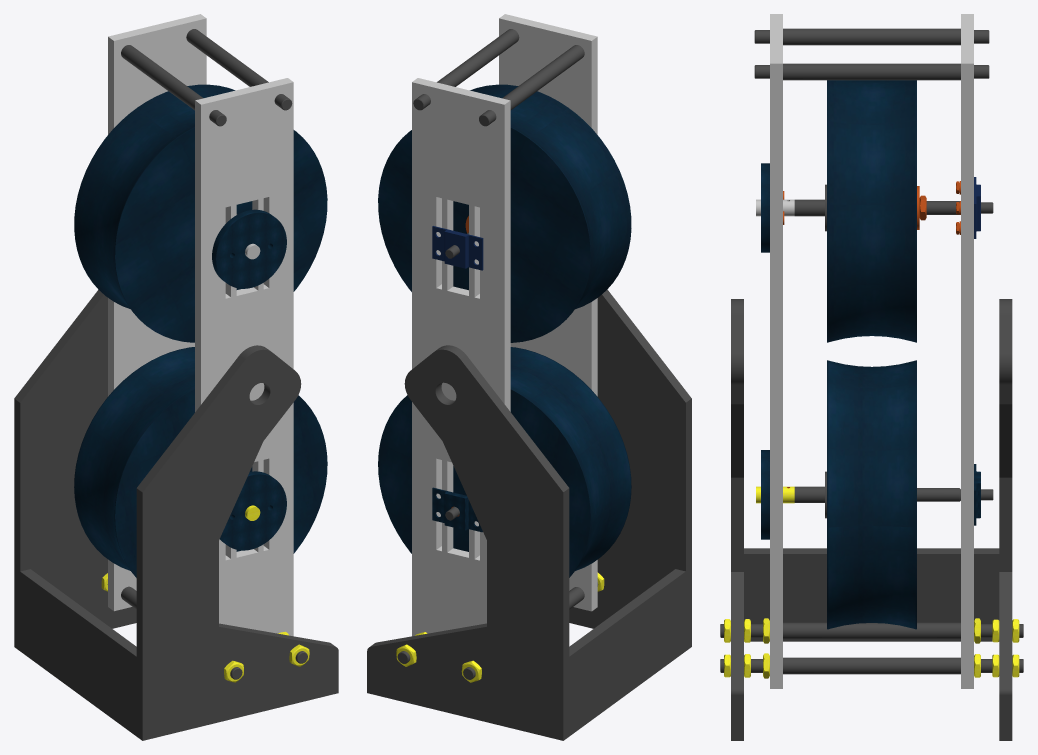
File: LANZAR_PELOTAS.obj
The picture shows the model from 3 angles, left to right: view 1: azimuth 30°, elevation 25°; view 2: azimuth 150°, elevation 25°; view 3: azimuth 270°, elevation 25°; orthographic projection. The views are drawn at different scales.
Visible parts, largest first — view 1: LANZADOR_DE_PELOTAS_02_09_-_Default_0; view 2: LANZADOR_DE_PELOTAS_02_09_-_Default_0; view 3: LANZADOR_DE_PELOTAS_02_09_-_Default_0.
Boxes of the visible parts, x1,y1,x2,y2 form: LANZADOR_DE_PELOTAS_02_09_-_Default_0: [14, 14, 338, 740]; LANZADOR_DE_PELOTAS_02_09_-_Default_0: [367, 14, 691, 740]; LANZADOR_DE_PELOTAS_02_09_-_Default_0: [720, 14, 1023, 740].
Size of the model in its own units: 0.21 by 0.53 by 0.22.
14 materials, 11 textured.
